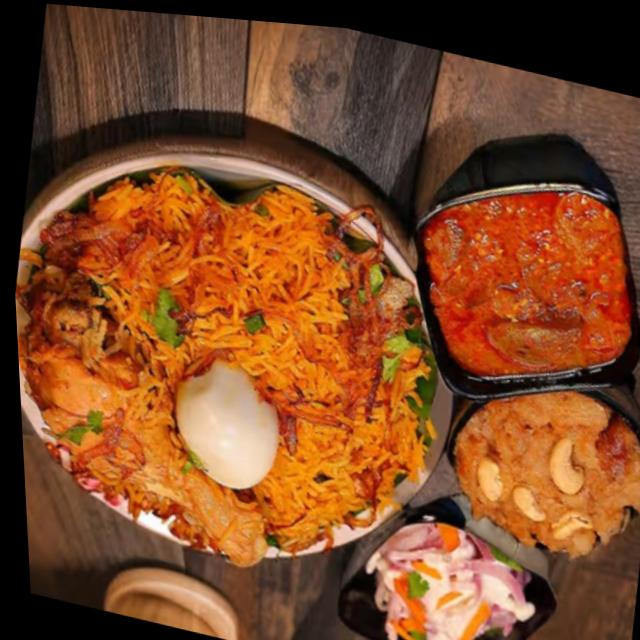BIRIYANI: (23, 165, 433, 571)
CURD: (369, 520, 534, 640)
CURRY: (420, 188, 634, 375)
SWEET: (454, 393, 640, 552)
